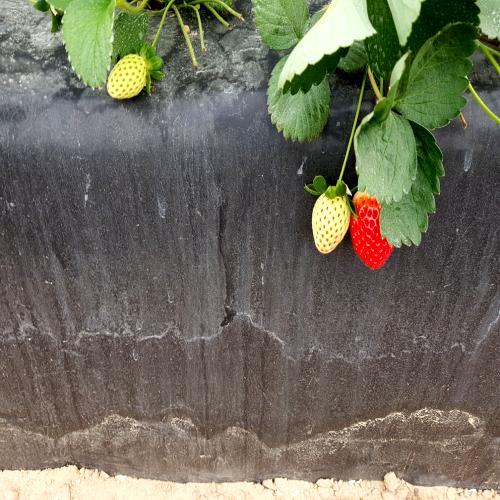ripe: (348, 183, 397, 276)
